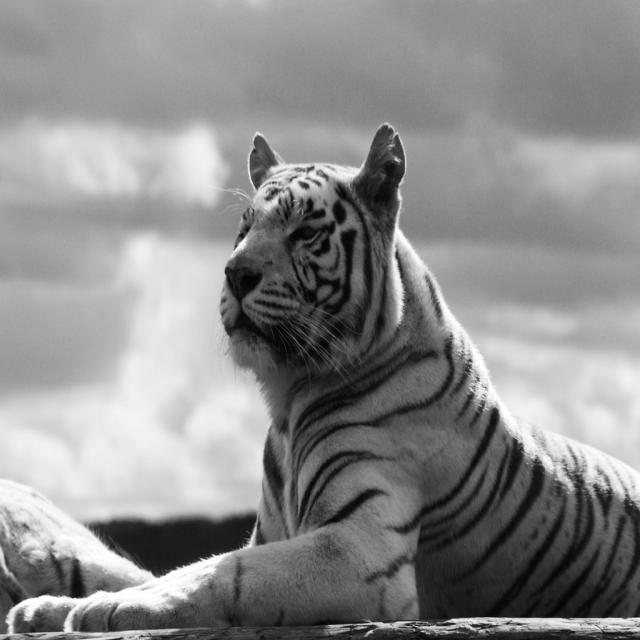Tiger: (7, 120, 640, 633)
